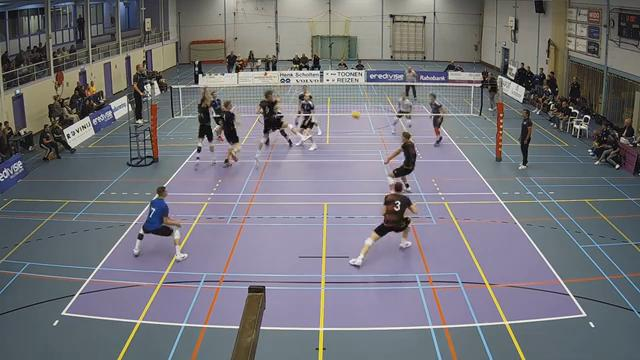difesa: (377, 130, 417, 195)
